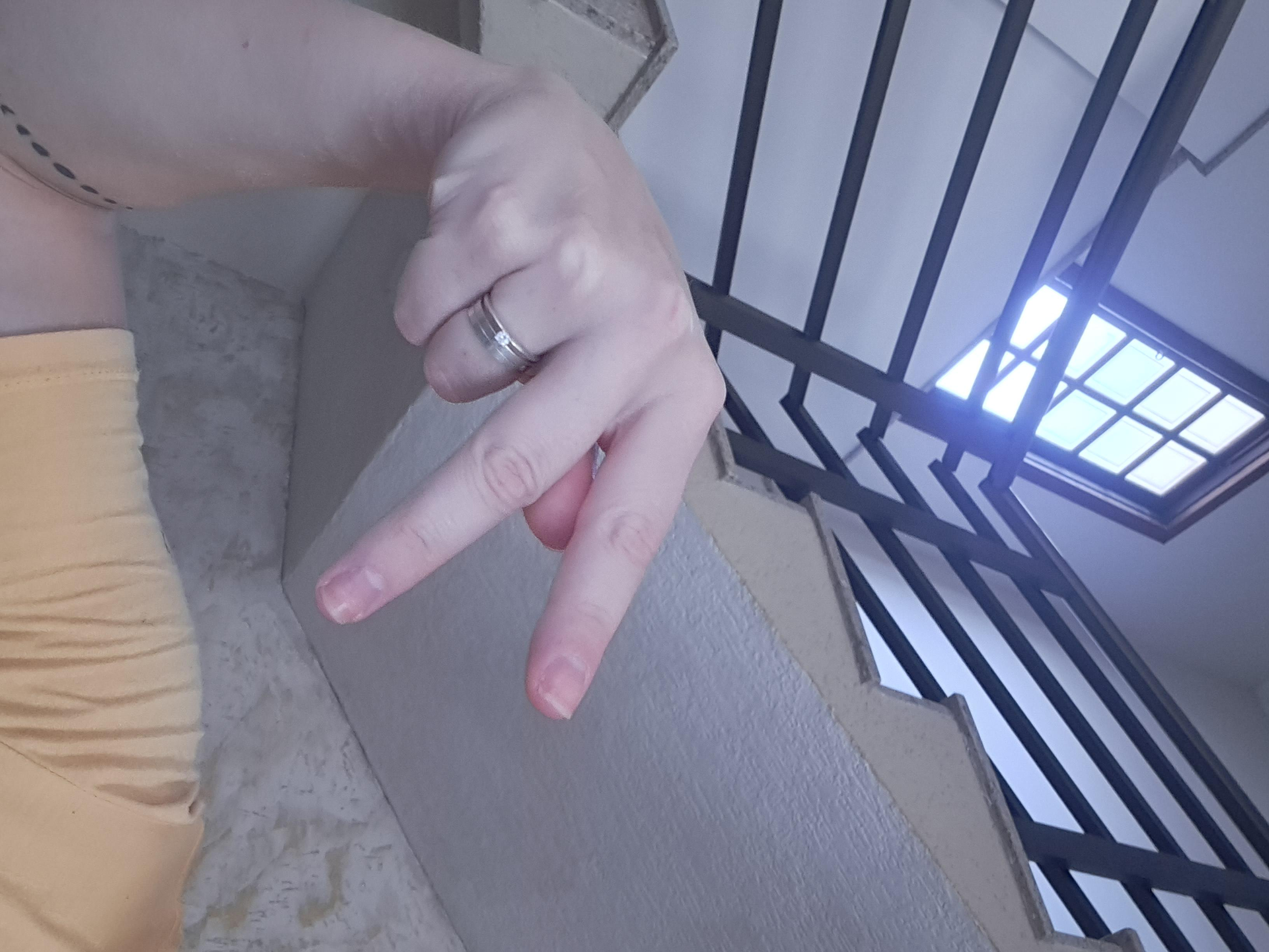P: (104, 403, 1000, 732)
